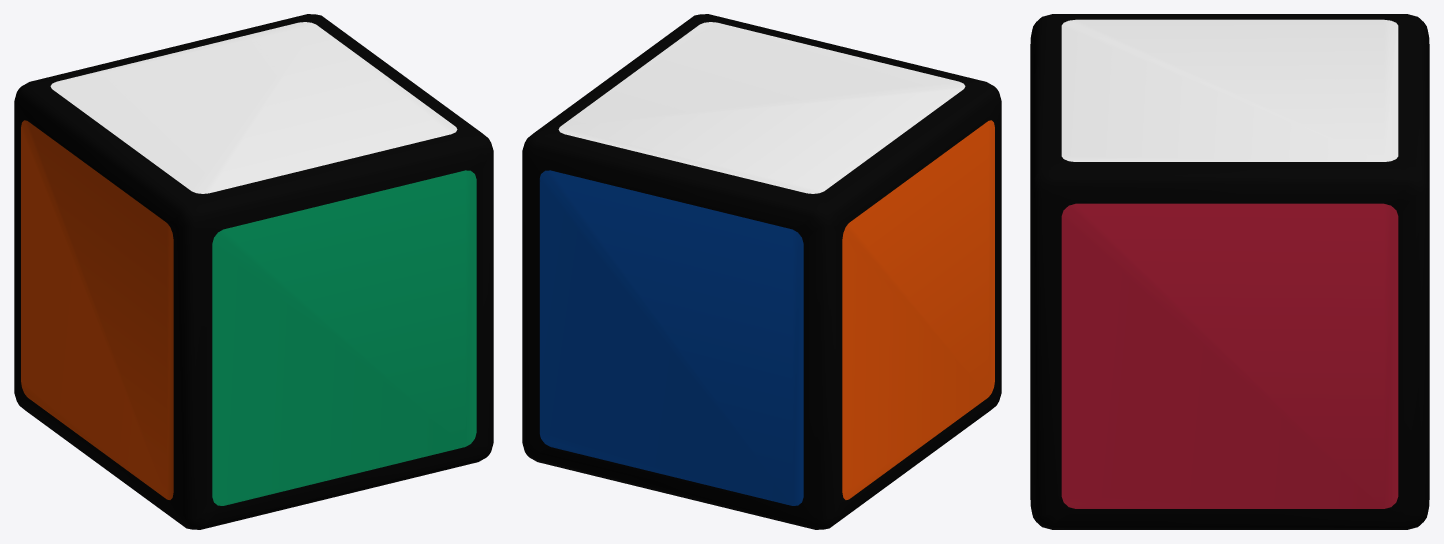
3 views of the same model, side by side, from view 1: azimuth 30°, elevation 25°; view 2: azimuth 150°, elevation 25°; view 3: azimuth 270°, elevation 25° (orthographic). The views are drawn at different scales.
Visible parts, largest first — view 1: BotYellow; view 2: BotYellow; view 3: BotYellow.
Part boxes in pixels (box(x1,y1,x2,y2)): BotYellow: box(14, 14, 493, 529); BotYellow: box(522, 14, 1001, 529); BotYellow: box(1030, 14, 1429, 529).
Bounding box in the file's own units: 1 × 1 × 1.
1 material, 1 textured.
